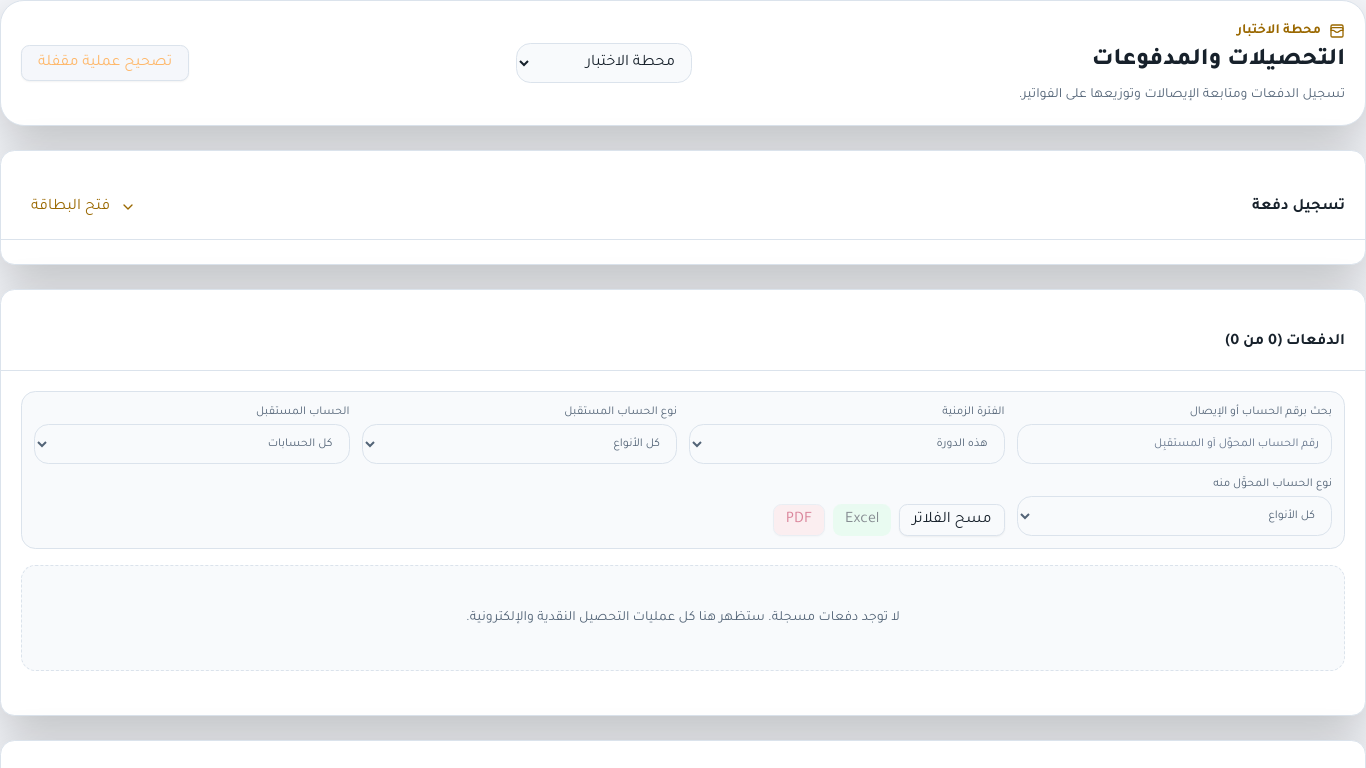
it: role guards in administration UI › keeps the receiving company account inside the payment form without duplicate destination fields
Step 1. Click the button "فتح البطاقة" → click(84, 207), box x1=21 y1=191 x2=146 y2=223
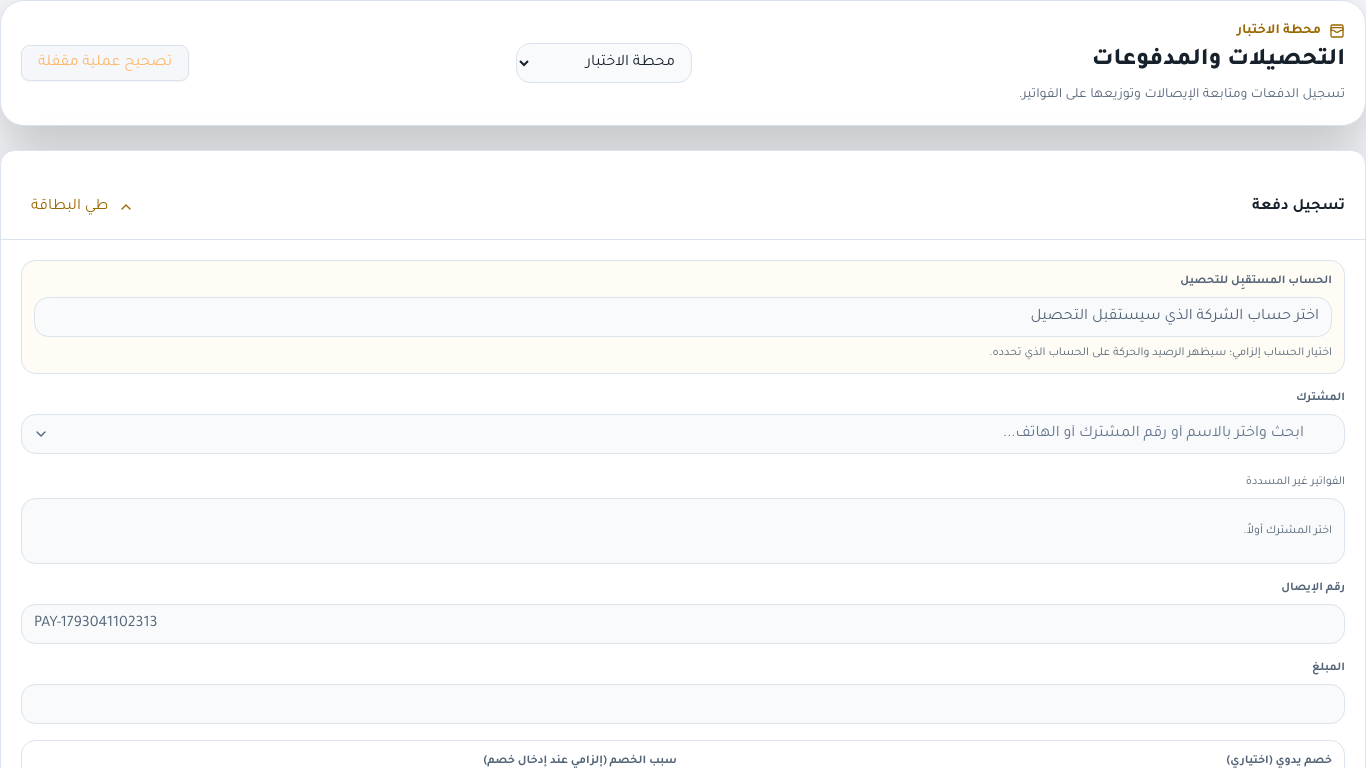
Step 2. Select "كاش — نقدًا" in the dropdown labelled "الحساب المستقبِل للتحصيل" → (683, 317), box x1=34 y1=297 x2=1332 y2=337
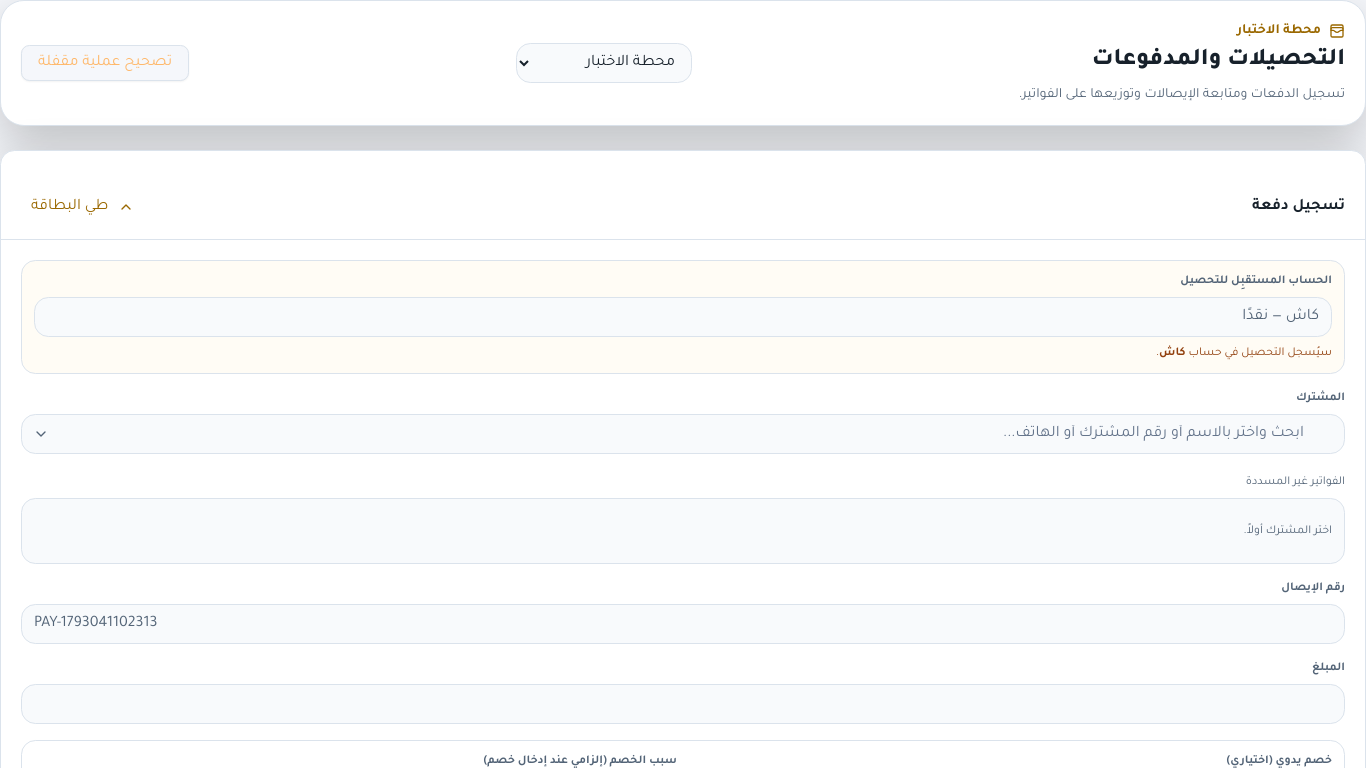
Check: the text "سيُسجل التحصيل في حساب كاش." is shown, box x1=1156 y1=347 x2=1332 y2=359
